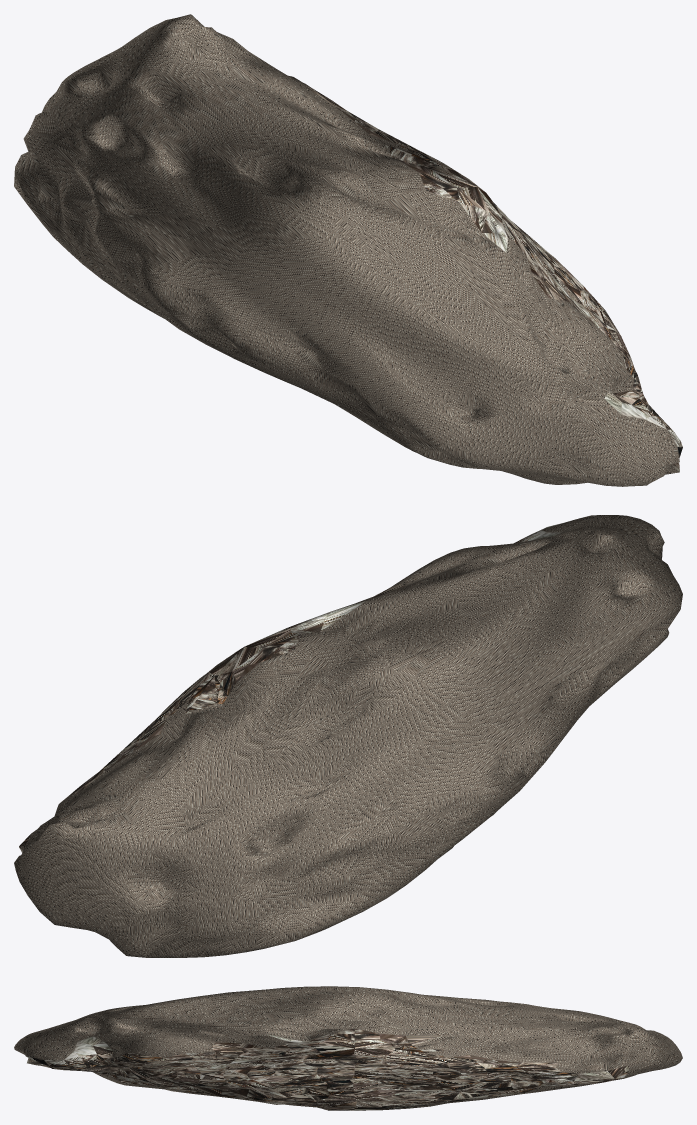
The model's file is Texturizado.glb.
3 renders of one model, top to bottom at view 1: azimuth 30°, elevation 25°; view 2: azimuth 150°, elevation 25°; view 3: azimuth 270°, elevation 25°, orthographic. The views are drawn at different scales.
Parts seen in each view (by area): view 1: Mesh1 Group1 Model; view 2: Mesh1 Group1 Model; view 3: Mesh1 Group1 Model.
Part boxes in pixels (x1=…): Mesh1 Group1 Model: x1=14, y1=14, x2=682, y2=486; Mesh1 Group1 Model: x1=14, y1=515, x2=682, y2=957; Mesh1 Group1 Model: x1=14, y1=986, x2=682, y2=1110.
Bounding box in the file's own units: 0.6861 × 0.3212 × 2.09.
1 material, 1 textured.
